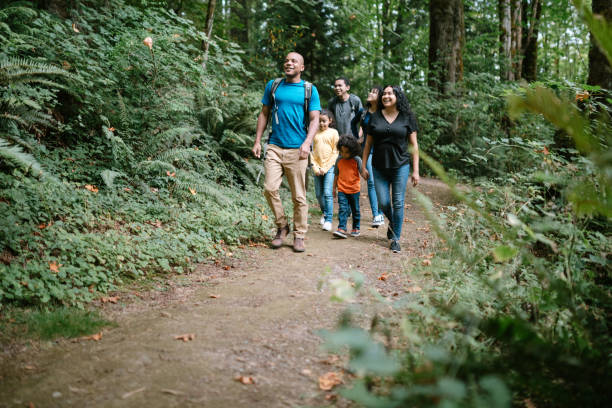without mask: (278, 53, 307, 79), (327, 71, 356, 97), (377, 85, 403, 106), (332, 140, 358, 160), (318, 110, 335, 130)
